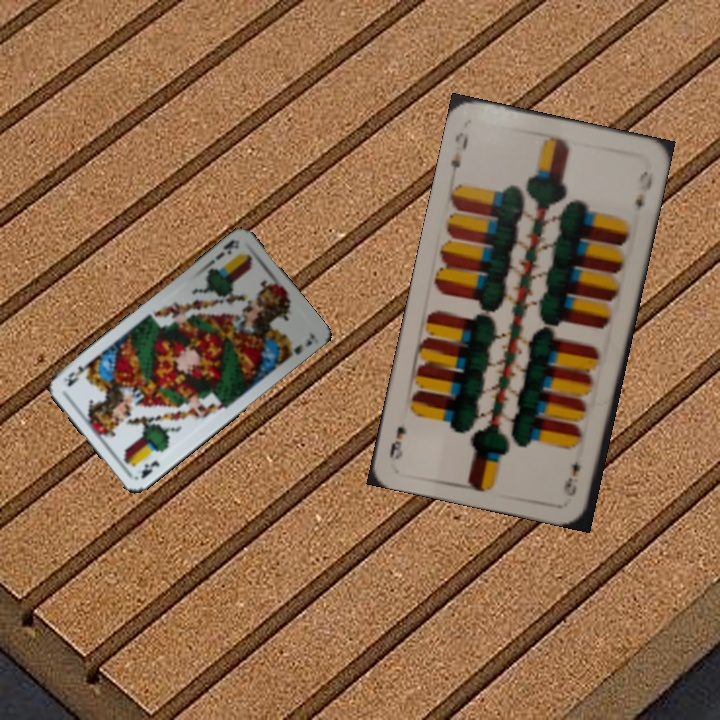E9: (447, 128, 471, 179), (562, 457, 583, 499)
EK: (212, 236, 242, 262), (137, 456, 162, 481)
